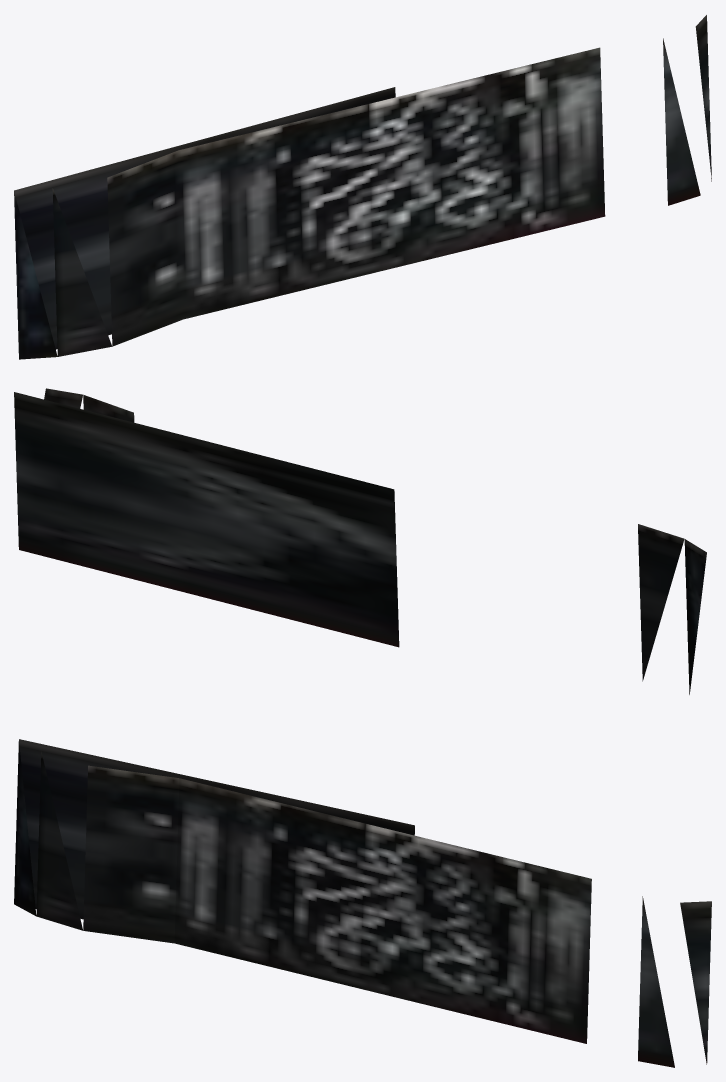
Rendered from ITMI_BELT_03.glb.
The picture shows the model from 3 angles, top to bottom: view 1: azimuth 30°, elevation 25°; view 2: azimuth 150°, elevation 25°; view 3: azimuth 330°, elevation 25°; orthographic projection. The views are drawn at different scales.
Visible parts, largest first — view 1: ITMI_BELT_03; view 2: ITMI_BELT_03; view 3: ITMI_BELT_03.
Part boxes in pixels (x1=…): ITMI_BELT_03: x1=14, y1=15, x2=711, y2=359; ITMI_BELT_03: x1=14, y1=388, x2=706, y2=694; ITMI_BELT_03: x1=14, y1=739, x2=711, y2=1067.
Size of the model in its own units: 0.3646 by 0.0834 by 0.026.
1 material, 1 textured.
